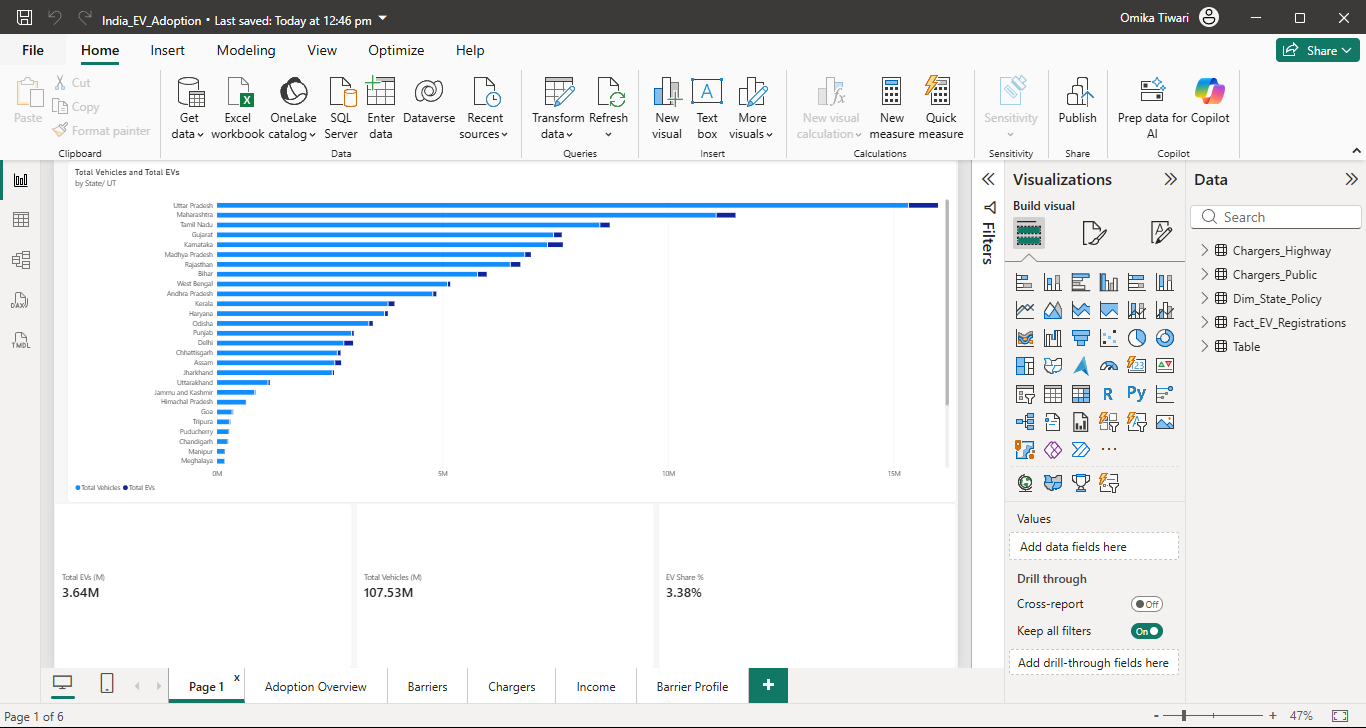

The page's visual inventory and layout, read from the dashboard file:
{"tool":"powerbi","page":{"name":"Page 1","canvas":[1920,1080],"ordinal":0},"visuals":[{"type":"barChart","fields":{"Category":["Fact_EV_Registrations.State/ UT"],"Y":["Fact_EV_Registrations.Total Vehicles","Fact_EV_Registrations.Total EVs"]},"box":[27.7,0,1892.3,728.2],"z":0},{"type":"cardVisual","fields":{"Data":["Fact_EV_Registrations.Total EVs (M)","Fact_EV_Registrations.Total Vehicles (M)","Fact_EV_Registrations.EV Share %"]},"box":[0,728.2,1920,352.8],"z":2}]}

Visuals, with their boxes on the page's 1920x1080 design canvas (x1, y1, x2, y2). These are canvas units, not pixel positions in the 1366x728 screenshot, which may show the page scaled, cropped or inside an application window:
barChart - Fact_EV_Registrations.State/ UT x Fact_EV_Registrations.Total Vehicles: (left=28, top=0, right=1920, bottom=728)
cardVisual - Fact_EV_Registrations.Total EVs (M) x Fact_EV_Registrations.Total Vehicles (M): (left=0, top=728, right=1920, bottom=1081)
